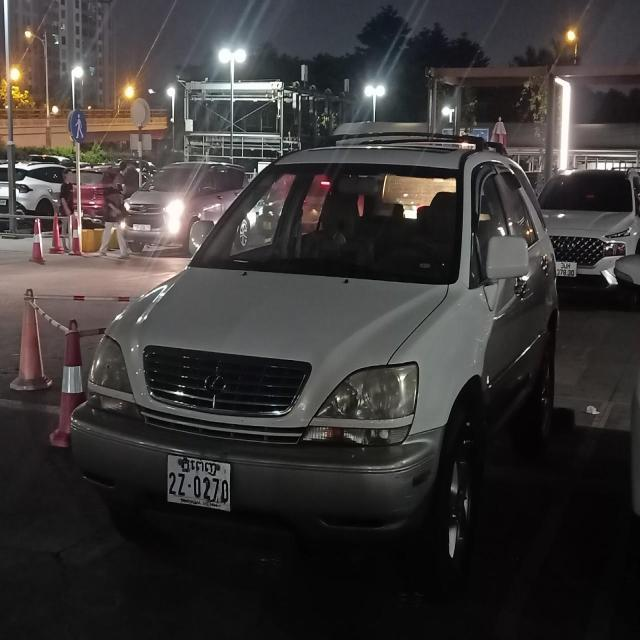Phnom_Penh: (180, 455, 218, 477)
